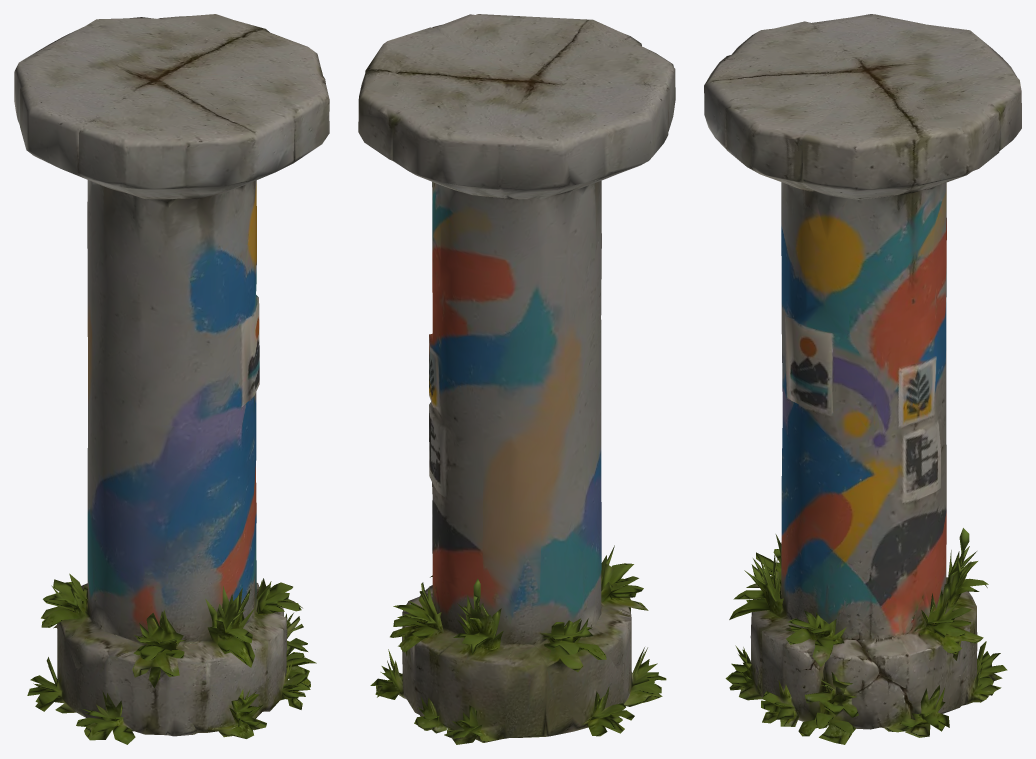
File: pillar.glb
3 renders of one model, left to right at view 1: azimuth 30°, elevation 25°; view 2: azimuth 150°, elevation 25°; view 3: azimuth 270°, elevation 25°, orthographic.
Visible parts, largest first — view 1: tripo_node_edd28540-57c6-473d-9042-53175923fc1e; view 2: tripo_node_edd28540-57c6-473d-9042-53175923fc1e; view 3: tripo_node_edd28540-57c6-473d-9042-53175923fc1e.
Part boxes in pixels (x1,y1,x2,y2): tripo_node_edd28540-57c6-473d-9042-53175923fc1e: (14, 14, 329, 744); tripo_node_edd28540-57c6-473d-9042-53175923fc1e: (358, 14, 675, 744); tripo_node_edd28540-57c6-473d-9042-53175923fc1e: (704, 14, 1021, 744).
Bounding box in the file's own units: 0.4749 × 1 × 0.4738.
Materials: 1 (1 with a texture image).
